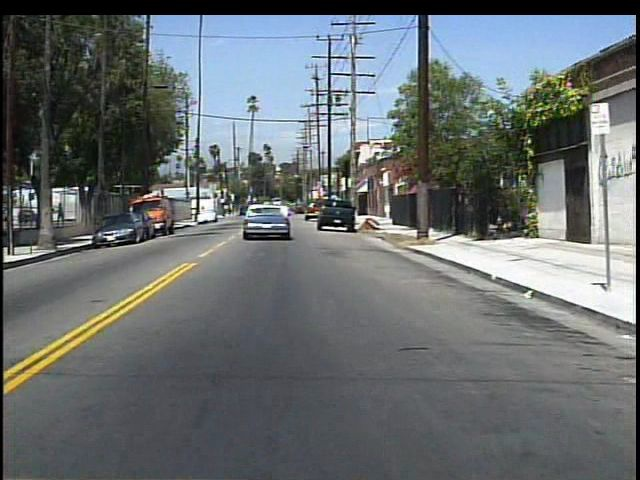person: (57, 199, 70, 229)
